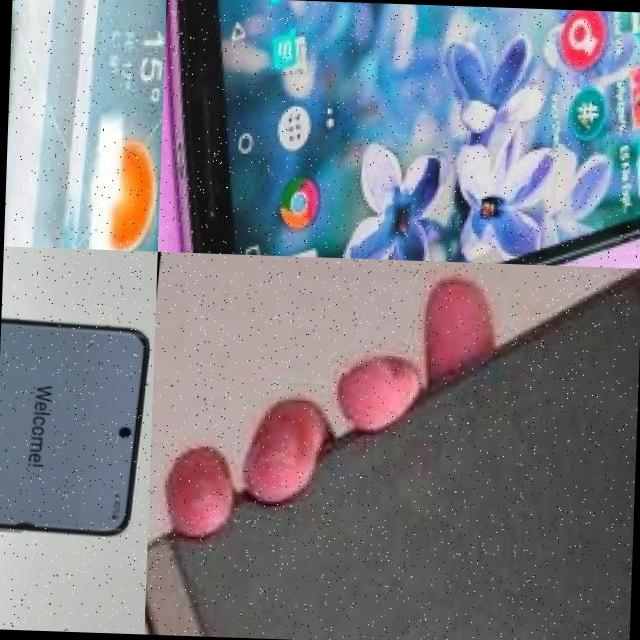dead pixel: (2, 512, 47, 549)
